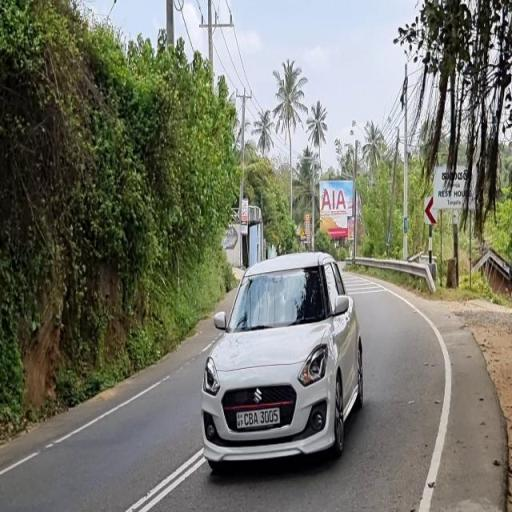double_white_line: (126, 449, 204, 510)
